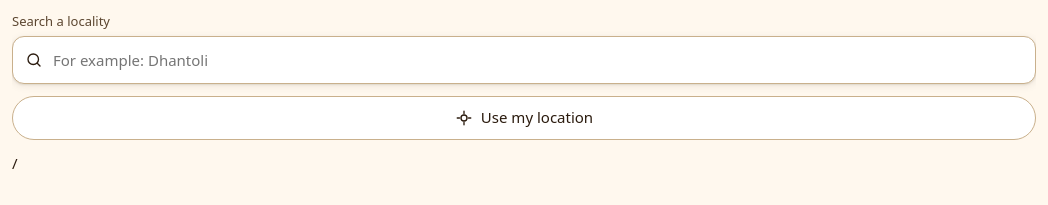
Test: LocationPicker › shows a helpful message when location access is denied
Click the button "Use my location": (524, 118) top-left (12, 96), bottom-right (1036, 140)
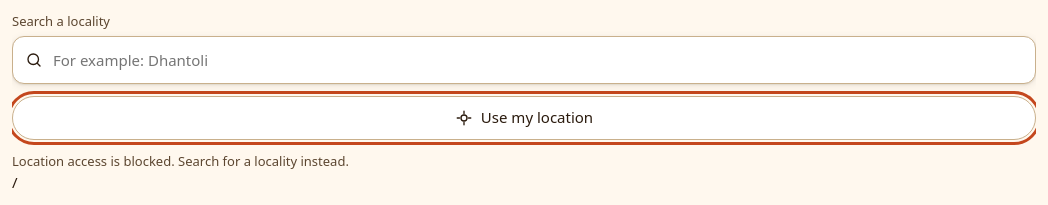
Now the text "Location access is blocked. Search for a locality instead." is shown, box top-left (12, 152), bottom-right (349, 170)
